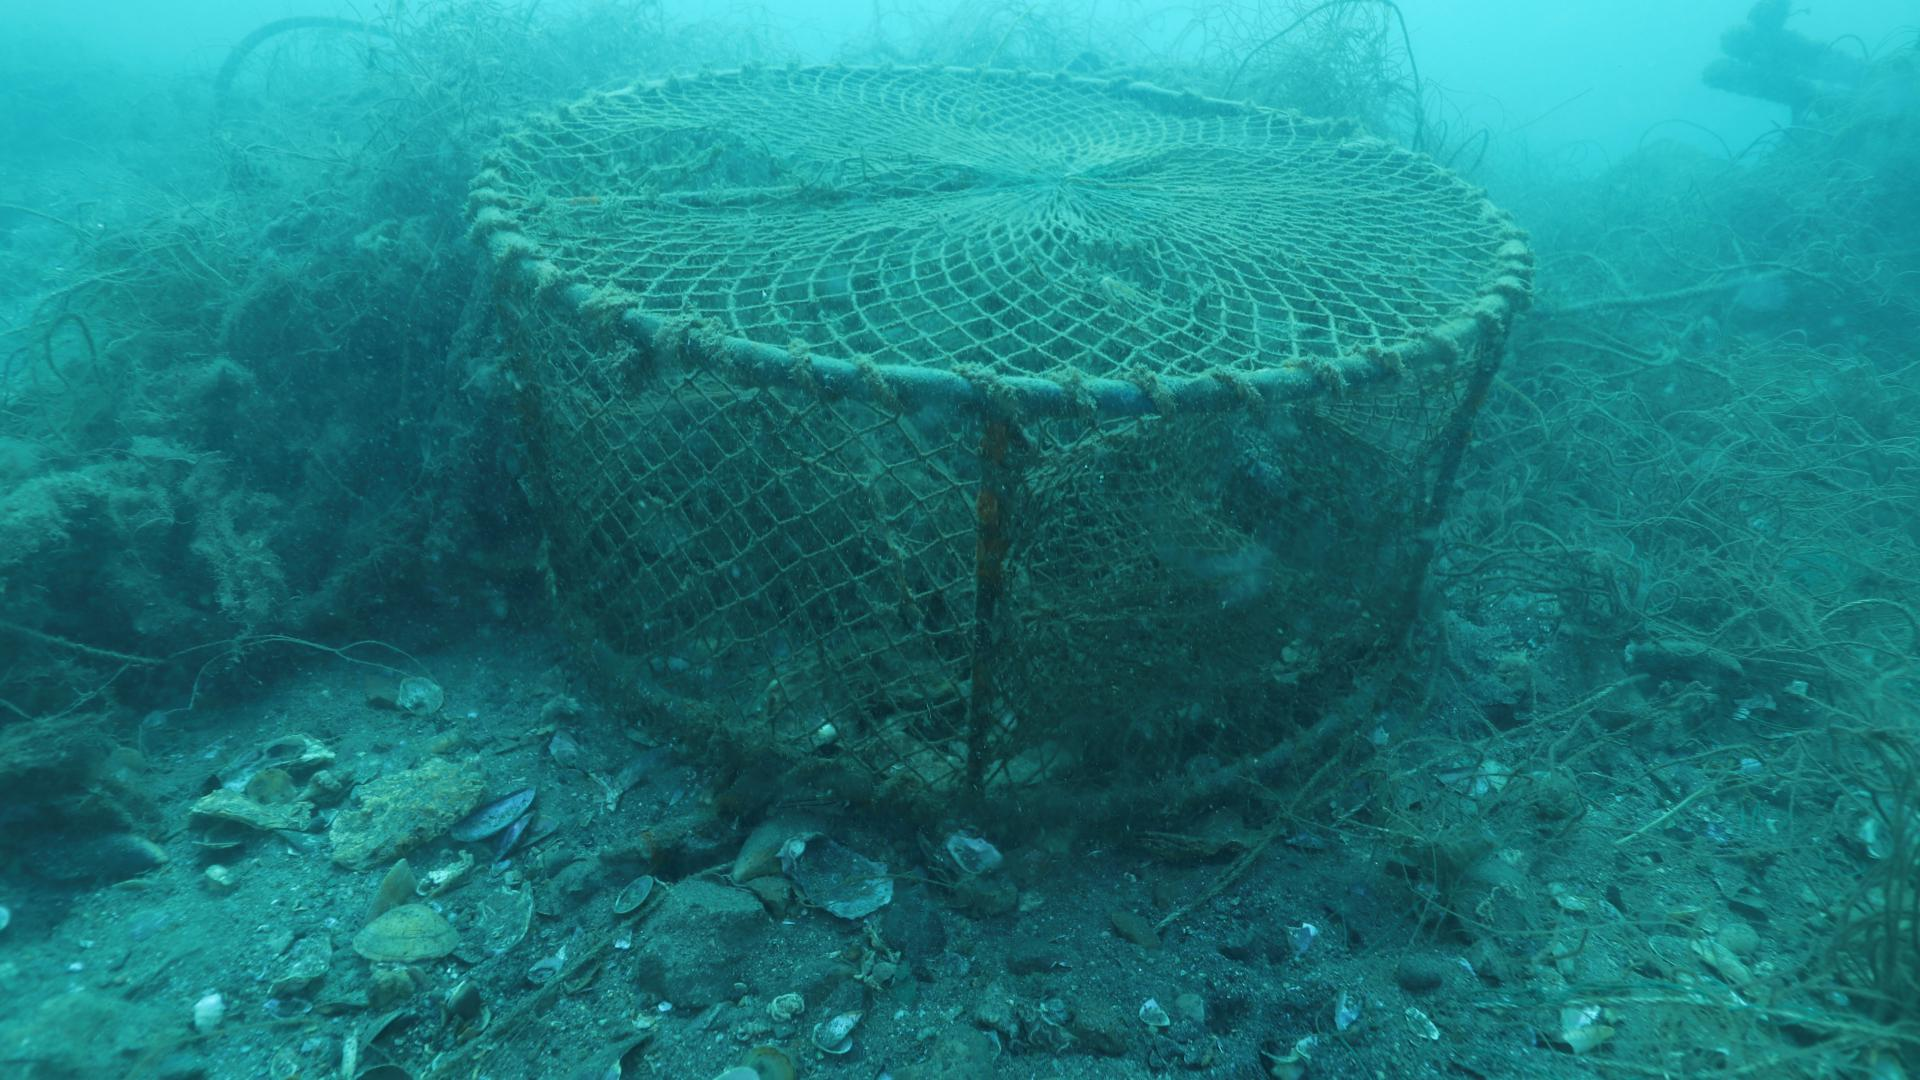circular fish trap: (465, 58, 1534, 829)
